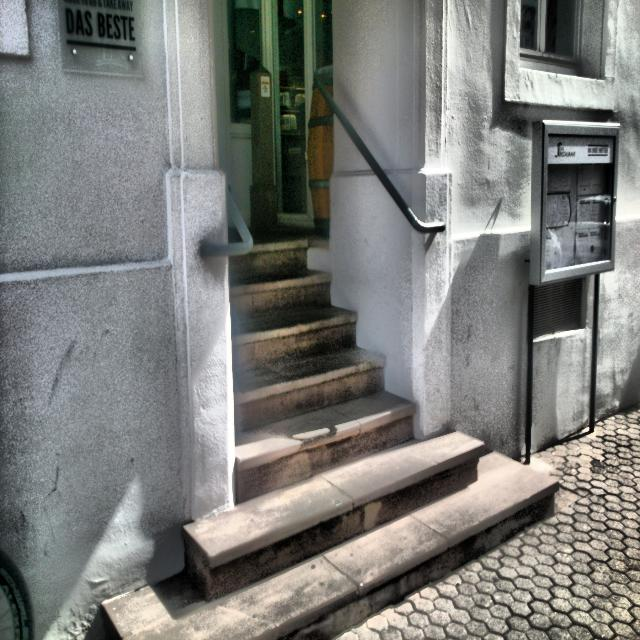escada: (225, 249, 553, 640)
